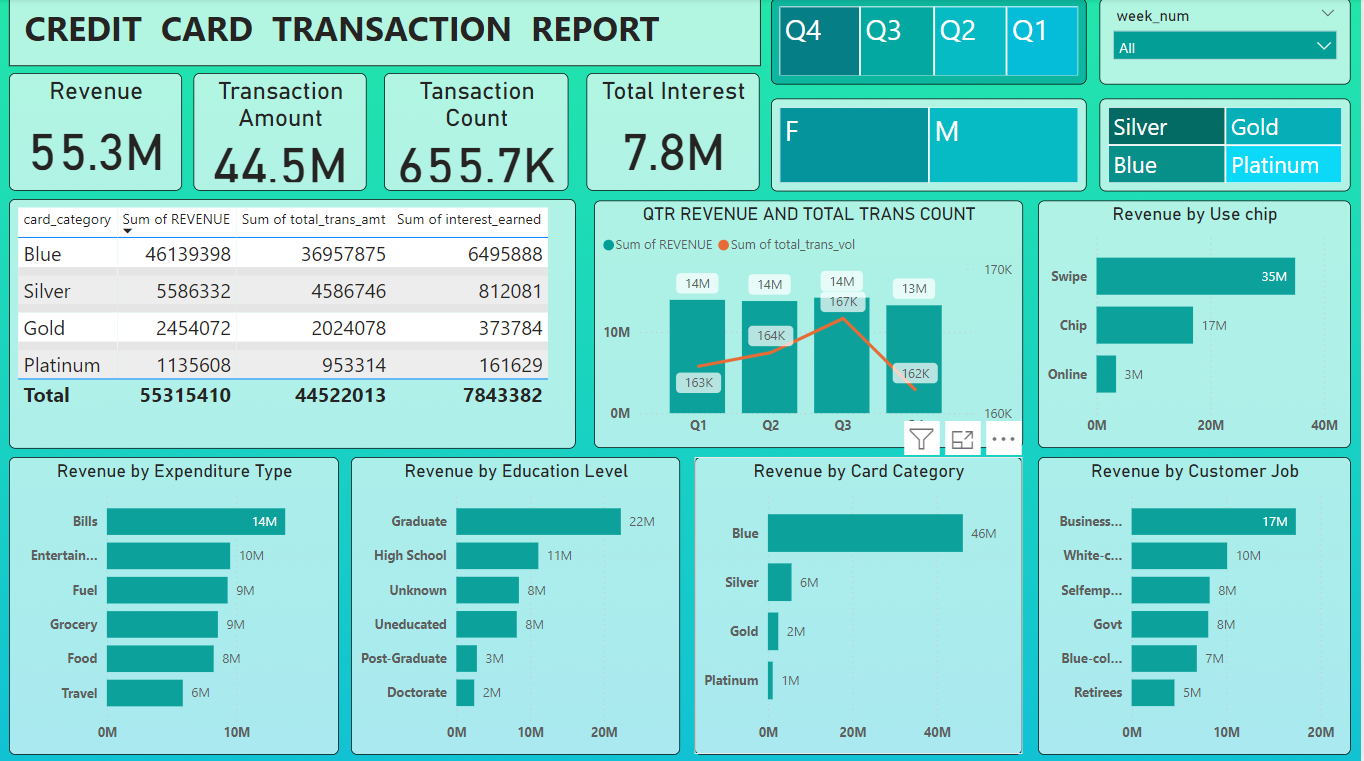

Layout of this report page (visuals, bound fields, positions):
{"tool":"powerbi","page":{"name":"Credit Card transaction report","canvas":[1280,720],"ordinal":1},"visuals":[{"type":"textbox","box":[7.8,0,706.5,64.1],"z":0},{"type":"lineStackedColumnComboChart","title":"QTR REVENUE AND TOTAL TRANS COUNT","fields":{"Category":["public cc_detail.qtr"],"Y":["Sum(public cc_detail.REVENUE)"],"Y2":["Sum(public cc_detail.total_trans_vol)"]},"box":[558,190.7,403.3,232.9],"z":1000},{"type":"barChart","title":"Revenue by Expenditure Type","fields":{"Y":["Sum(public cc_detail.REVENUE)"],"Category":["public cc_detail.exp_type"]},"box":[7.8,431.4,310,280],"z":2000},{"type":"barChart","title":"Revenue by Education Level","fields":{"Y":["Sum(public cc_detail.REVENUE)"],"Category":["public cust_detail.education_level"]},"box":[329.8,431.4,309.5,279.8],"z":3000},{"type":"barChart","title":"Revenue by Customer Job","fields":{"Y":["Sum(public cc_detail.REVENUE)"],"Category":["public cust_detail.customer_job"]},"box":[975.3,431.4,293.8,279.8],"z":4000},{"type":"barChart","title":"Revenue by Card Category","fields":{"Y":["Sum(public cc_detail.REVENUE)"],"Category":["public cc_detail.card_category"]},"box":[653.3,431.4,307.9,279.8],"z":5000},{"type":"barChart","title":"Revenue by Use chip","fields":{"Y":["Sum(public cc_detail.REVENUE)"],"Category":["public cc_detail.use_chip"]},"box":[975.3,190.7,293.8,232.9],"z":6000},{"type":"tableEx","fields":{"Values":["public cc_detail.card_category","Sum(public cc_detail.REVENUE)","Sum(public cc_detail.total_trans_amt)","Sum(public cc_detail.interest_earned)"]},"box":[7.8,189.1,533,234.4],"z":7000},{"type":"card","title":"Revenue","fields":{"Values":["Sum(public cc_detail.REVENUE)"]},"box":[7.8,70.3,162.6,111],"z":8000},{"type":"card","title":"Transaction Amount","fields":{"Values":["Sum(public cc_detail.total_trans_amt)"]},"box":[181.3,70.3,162.6,111],"z":9000},{"type":"card","title":"Tansaction Count","fields":{"Values":["Sum(public cc_detail.total_trans_vol)"]},"box":[361.1,70.3,173.5,111],"z":10000},{"type":"card","title":"Total Interest","fields":{"Values":["Sum(public cc_detail.interest_earned)"]},"box":[551.7,70.3,162.6,111],"z":11000},{"type":"slicer","fields":{"Values":["public cc_detail.week_num"]},"box":[1033.1,0,236,81.3],"z":12000},{"type":"treemap","fields":{"Group":["public cc_detail.qtr"],"Values":["Avg(public cc_detail.client_num)"]},"box":[725.2,0,297,81.3],"z":13000},{"type":"treemap","fields":{"Group":["public cust_detail.gender"],"Values":["Avg(public cc_detail.client_num)"]},"box":[725.2,93.8,297,87.5],"z":14000},{"type":"treemap","fields":{"Group":["public cc_detail.card_category"],"Values":["Avg(public cc_detail.client_num)"]},"box":[1033.1,93.8,236,87.5],"z":15000}]}

Visuals, with their boxes in screenshot pixels (x1, y1, x2, y2), scaled from the page's 1280x720 canvas onto the 1364x761 screenshot:
textbox: [8, 0, 761, 68]
"QTR REVENUE AND TOTAL TRANS COUNT" lineStackedColumnComboChart: [595, 202, 1024, 448]
"Revenue by Expenditure Type" barChart: [8, 456, 339, 752]
"Revenue by Education Level" barChart: [351, 456, 681, 752]
"Revenue by Customer Job" barChart: [1039, 456, 1352, 752]
"Revenue by Card Category" barChart: [696, 456, 1024, 752]
"Revenue by Use chip" barChart: [1039, 202, 1352, 448]
tableEx - public cc_detail.card_category x Sum(public cc_detail.REVENUE): [8, 200, 576, 448]
"Revenue" card: [8, 74, 182, 192]
"Transaction Amount" card: [193, 74, 366, 192]
"Tansaction Count" card: [385, 74, 570, 192]
"Total Interest" card: [588, 74, 761, 192]
slicer - public cc_detail.week_num: [1101, 0, 1352, 86]
treemap - public cc_detail.qtr x Avg(public cc_detail.client_num): [773, 0, 1089, 86]
treemap - public cust_detail.gender x Avg(public cc_detail.client_num): [773, 99, 1089, 192]
treemap - public cc_detail.card_category x Avg(public cc_detail.client_num): [1101, 99, 1352, 192]
